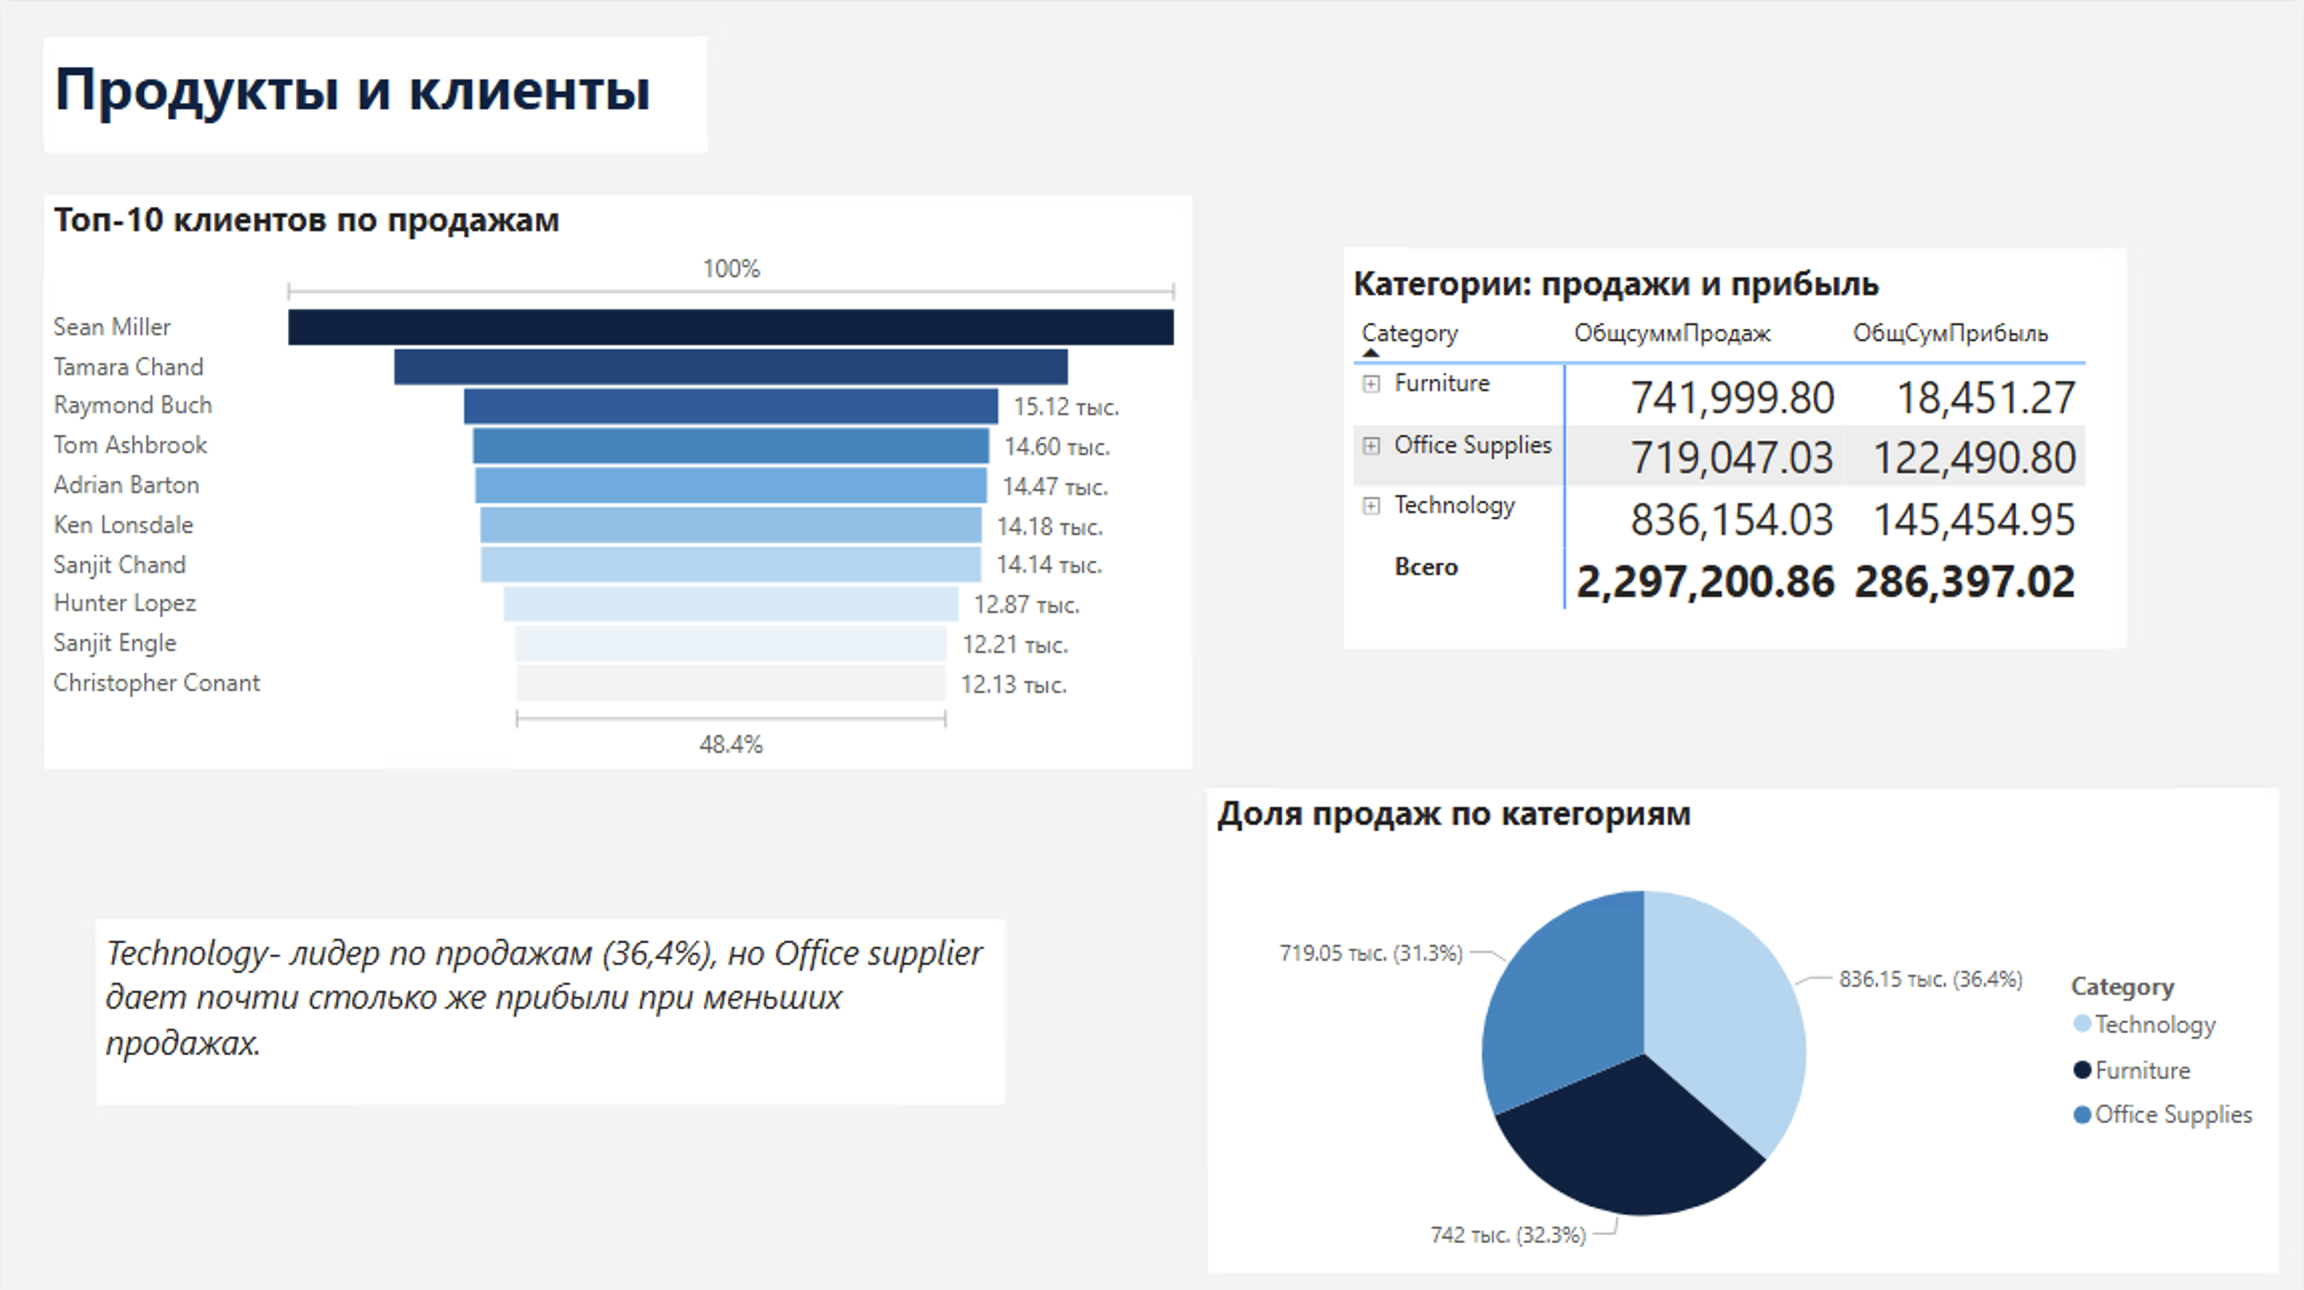

Layout of this report page (visuals, bound fields, positions):
{"tool":"powerbi","page":{"name":"Продукты и клиенты","canvas":[1280,720],"ordinal":3},"visuals":[{"type":"pivotTable","title":"Категории: продажи и прибыль","fields":{"Rows":["Orders.Category","Orders.Product Name"],"Values":["Orders.ОбщсуммПродаж","Orders.ОбщСумПрибыль"]},"box":[746.8,136.4,435.1,223.4],"z":0},{"type":"funnel","title":"Топ-10 клиентов по продажам","fields":{"Category":["Orders.Customer Name"],"Y":["Sum(Orders.Sales)"]},"box":[24.7,107.8,637.7,319.5],"z":1},{"type":"textbox","box":[24.7,19.5,368.8,63.6],"z":2},{"type":"pieChart","title":"Доля продаж по категориям","fields":{"Y":["Sum(Orders.Sales)"],"Category":["Orders.Category"]},"box":[671.4,437.7,594.8,268.8],"z":3},{"type":"textbox","box":[53.2,510.4,505.2,102.6],"z":4}]}

Visuals, with their boxes in screenshot pixels (x1, y1, x2, y2), scaled from the page's 1280x720 canvas onto the 2304x1290 screenshot:
"Категории: продажи и прибыль" pivotTable: BBox(1344, 244, 2127, 645)
"Топ-10 клиентов по продажам" funnel: BBox(44, 193, 1192, 766)
textbox: BBox(44, 35, 708, 149)
"Доля продаж по категориям" pieChart: BBox(1209, 784, 2279, 1266)
textbox: BBox(96, 914, 1005, 1098)
